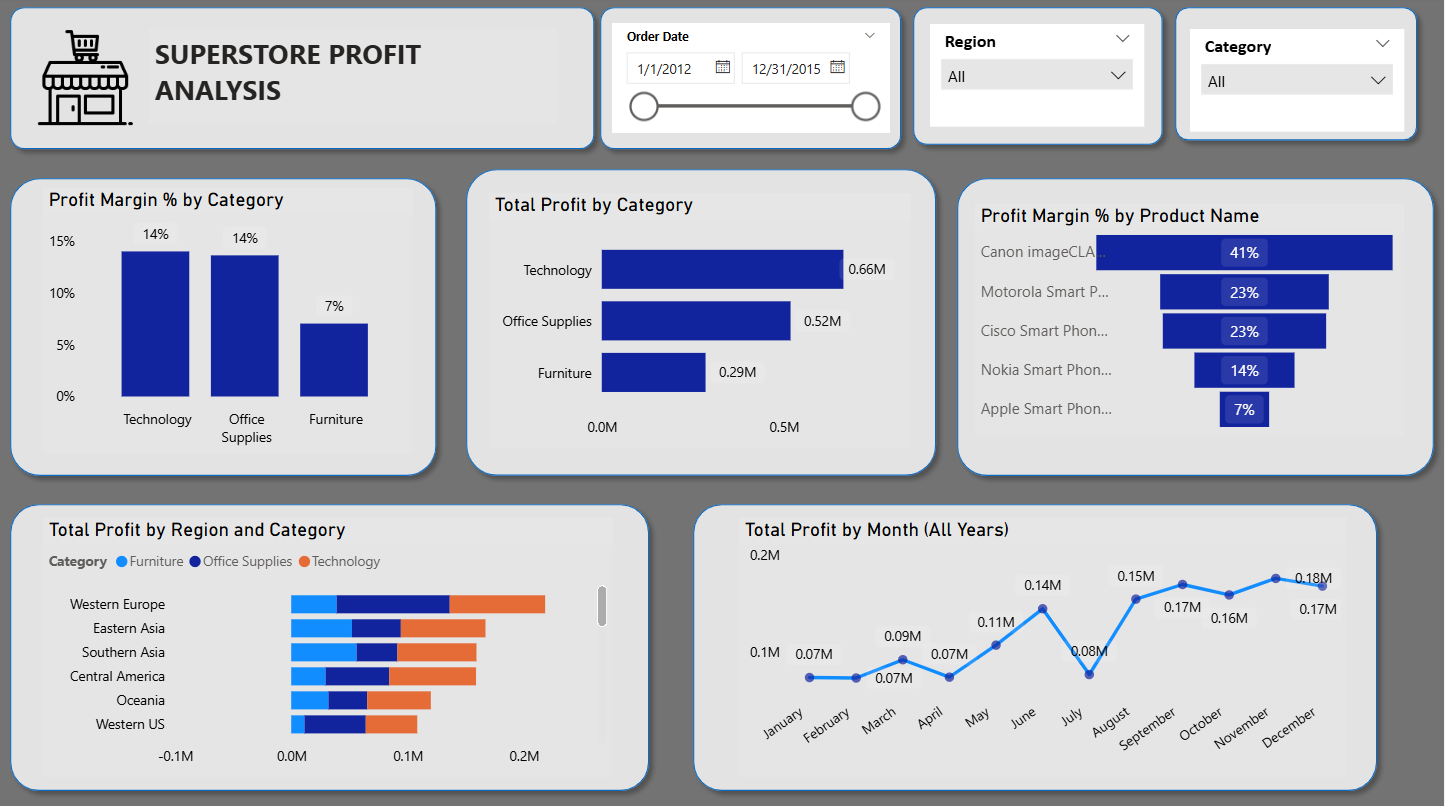

What the dashboard file says about the page in this screenshot:
{"tool":"powerbi","page":{"name":"Profit analysis","canvas":[1280,720],"ordinal":2},"visuals":[{"type":"shape","box":[0,0,535.9,144],"z":0},{"type":"textbox","box":[132.3,28.2,361.8,83.6],"z":1000},{"type":"shape","box":[800.5,0,239.3,140.1],"z":2000},{"type":"shape","box":[523.3,0,285,144],"z":3000},{"type":"slicer","fields":{"Values":["Order Table.Region"]},"box":[824.8,24.3,189.7,91.4],"z":4000},{"type":"slicer","fields":{"Values":["Order Table.Category"]},"box":[1055.3,38.9,187.7,72.9],"z":5000},{"type":"slicer","fields":{"Values":["Order Table.Order Date"]},"box":[542.7,23.3,246.1,97.3],"z":6000},{"type":"shape","box":[1032.9,0,232.5,136.2],"z":7000},{"type":"slicer","fields":{"Values":["Order Table.Category"]},"box":[1055.3,28.2,189.7,91.4],"z":8000},{"type":"shape","box":[0,151.7,395.9,282.1],"z":9000},{"type":"columnChart","fields":{"Category":["Order Table.Category"],"Y":["Order Table.Profit Margin %"]},"box":[38.1,169.4,328.1,235.9],"z":10000},{"type":"shape","box":[404.6,144,434.8,289.8],"z":11000},{"type":"shape","box":[839.4,151.7,440.6,282.1],"z":12000},{"type":"shape","box":[0,440.6,584.6,272.3],"z":13000},{"type":"clusteredBarChart","title":"Total Profit by Category","fields":{"Category":["Order Table.Category"],"Y":["Order Table.Total Profit"]},"box":[433.8,174.1,374.5,225.7],"z":14000},{"type":"funnel","fields":{"Category":["Order Table.Product Name"],"Y":["Order Table.Profit Margin %"]},"box":[864.7,183.8,380.3,206.2],"z":15000},{"type":"barChart","fields":{"Category":["Order Table.Region"],"Y":["Order Table.Total Profit"],"Series":["Order Table.Category"]},"box":[37.9,462,504.8,229.5],"z":16000},{"type":"shape","box":[606,440.6,624.4,272.3],"z":17000},{"type":"lineChart","title":"Total Profit by Month (All Years)","fields":{"Category":["Order Table.Month"],"Y":["Order Table.Total Profit"]},"box":[655.6,462,538.8,229.5],"z":18000},{"type":"image","box":[22.4,23.3,107,97.3],"z":19000}]}

Visuals, with their boxes in screenshot pixels (x1, y1, x2, y2), scaled from the page's 1280x720 canvas onto the 1445x806 screenshot:
shape: 0/0/605/161
textbox: 149/32/558/125
shape: 904/0/1174/157
shape: 591/0/912/161
slicer - Order Table.Region: 931/27/1145/130
slicer - Order Table.Category: 1191/44/1403/125
slicer - Order Table.Order Date: 613/26/890/135
shape: 1166/0/1429/152
slicer - Order Table.Category: 1191/32/1405/134
shape: 0/170/447/486
columnChart - Order Table.Category x Order Table.Profit Margin %: 43/190/413/454
shape: 457/161/948/486
shape: 948/170/1444/486
shape: 0/493/660/798
"Total Profit by Category" clusteredBarChart: 490/195/912/448
funnel - Order Table.Product Name x Order Table.Profit Margin %: 976/206/1405/437
barChart - Order Table.Region x Order Table.Total Profit: 43/517/613/774
shape: 684/493/1389/798
"Total Profit by Month (All Years)" lineChart: 740/517/1348/774
image: 25/26/146/135
